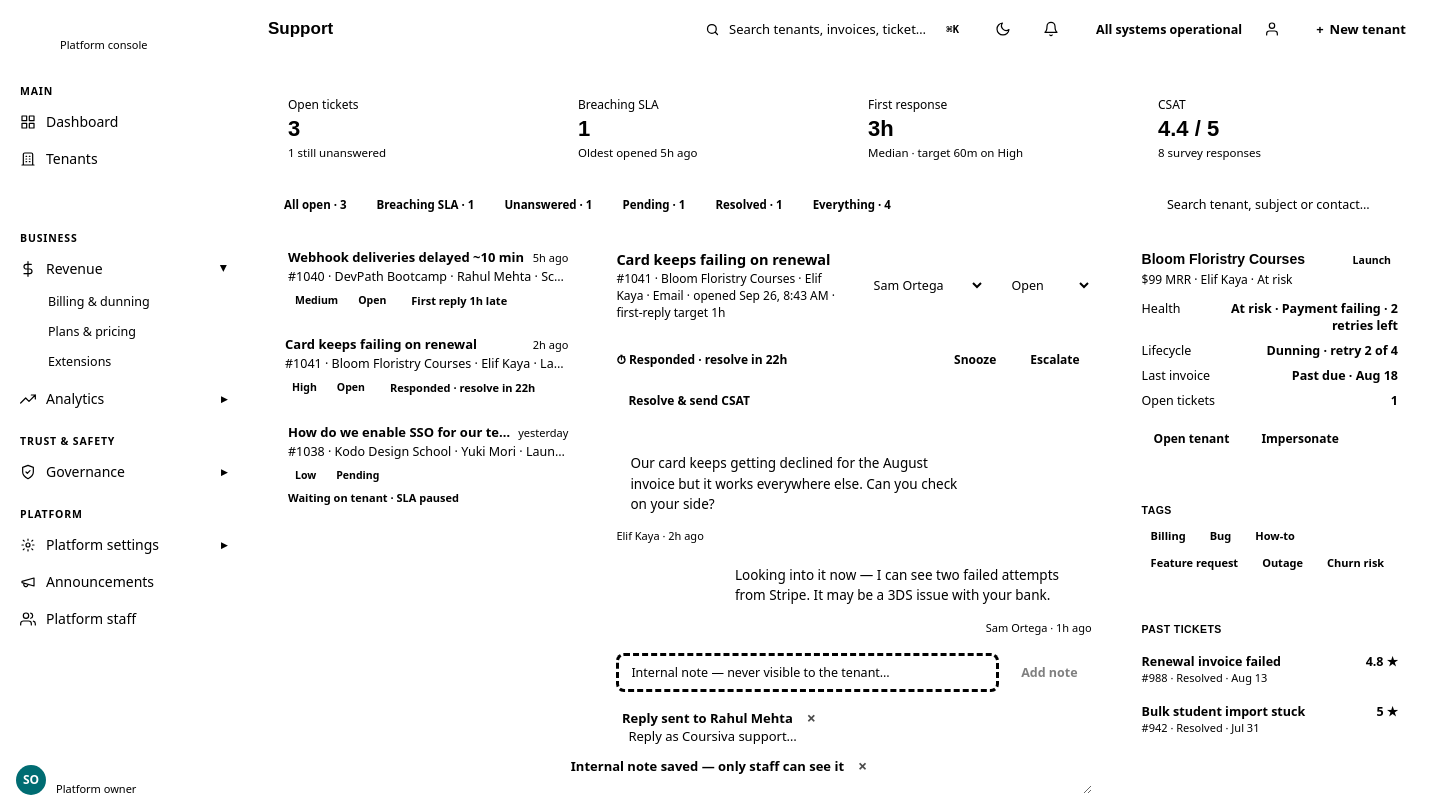
support inbox › resolves a ticket and updates the open-ticket badge
This screenshot has width=1440, height=808.
Check: the heading "Card keeps failing on renewal" is shown, box [616, 249, 847, 269]
Click the button "Resolve & send CSAT" at (689, 401), box [616, 385, 762, 416]
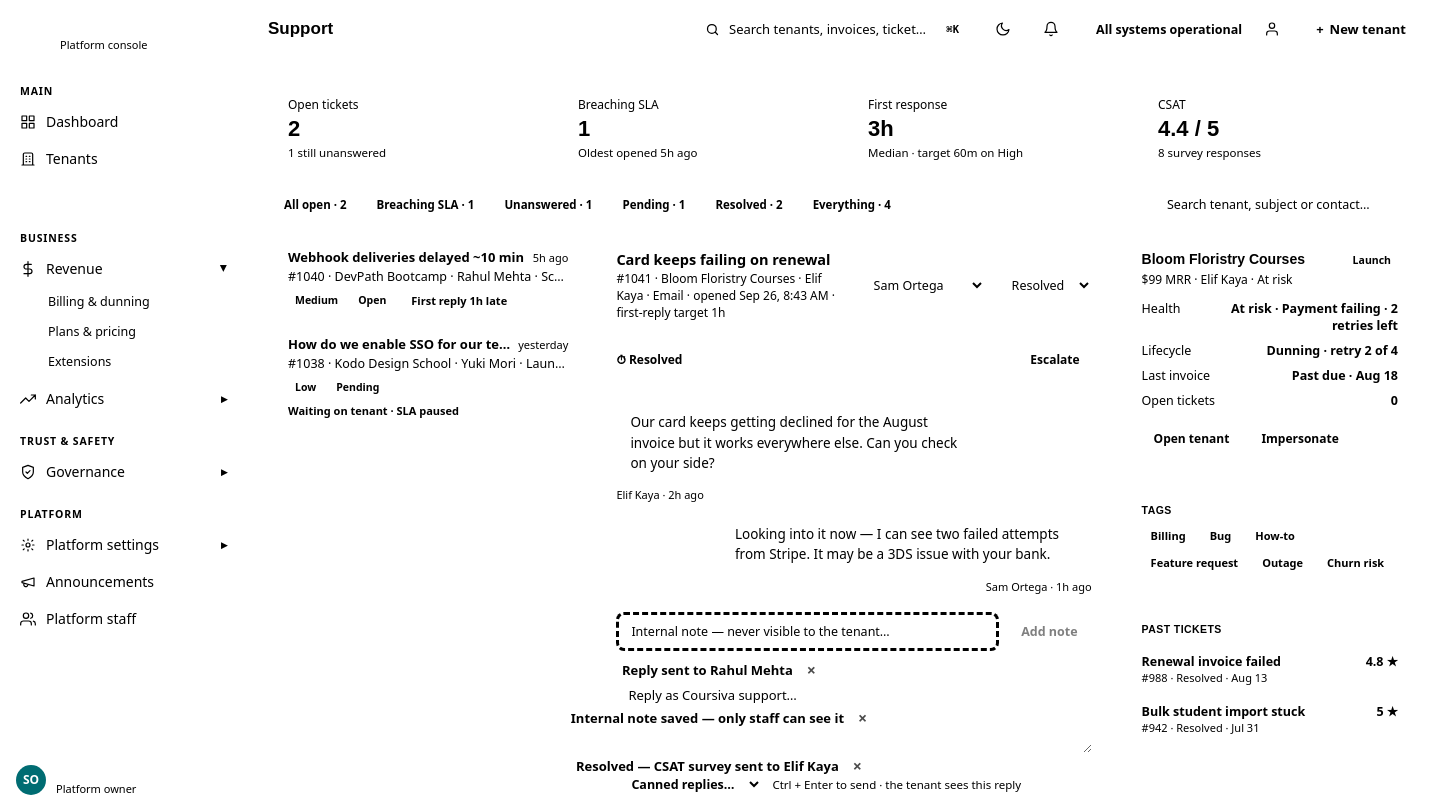
Check: the text "Resolved — CSAT survey sent to Elif Kaya" is shown, box [576, 757, 839, 775]
